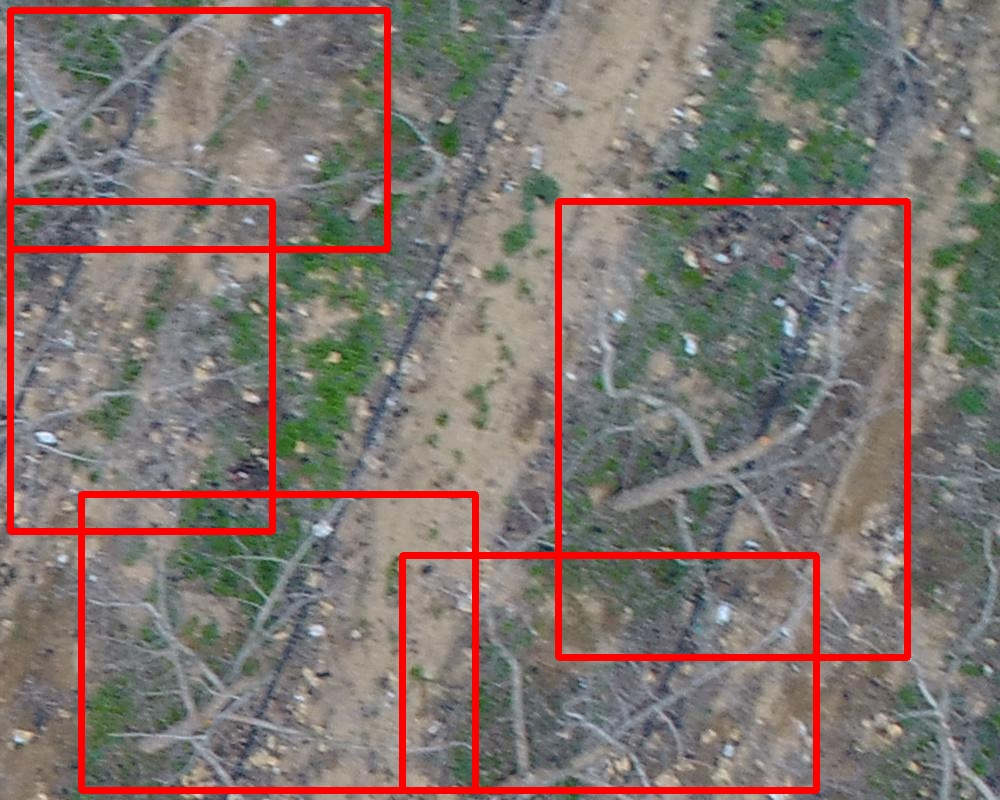apple: (558, 201, 907, 657), (81, 494, 475, 790), (402, 555, 816, 790), (10, 10, 387, 249), (10, 201, 272, 531)
